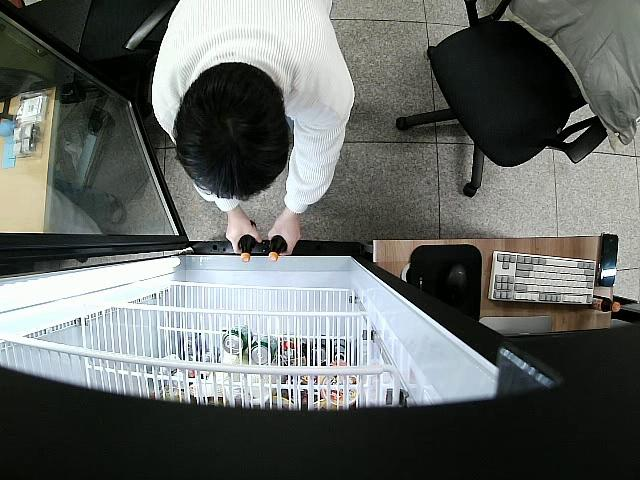00_hand: (226, 210, 263, 253), (268, 211, 300, 255)
17_vita500: (238, 234, 256, 262), (268, 234, 286, 262)
